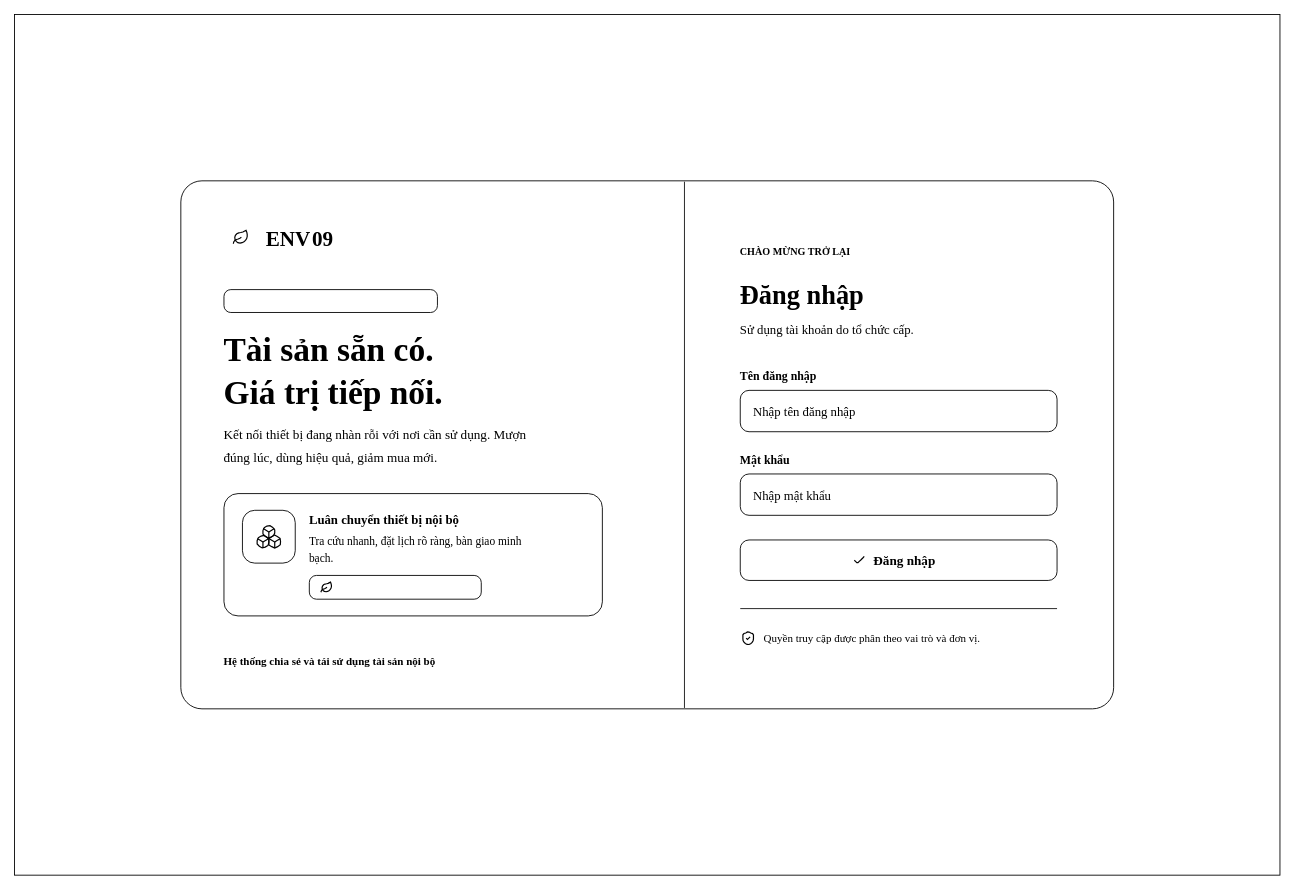
The diagram is 1294 pixels wide and 890 high, and some of its shapes have lost their labels. Each missing label, with the centre of its shape:
"CHIA SẺ TRONG CÙNG TỔ CHỨC" belongs at point (330, 300).
"Thêm một lần tái sử dụng" belongs at point (394, 587).
